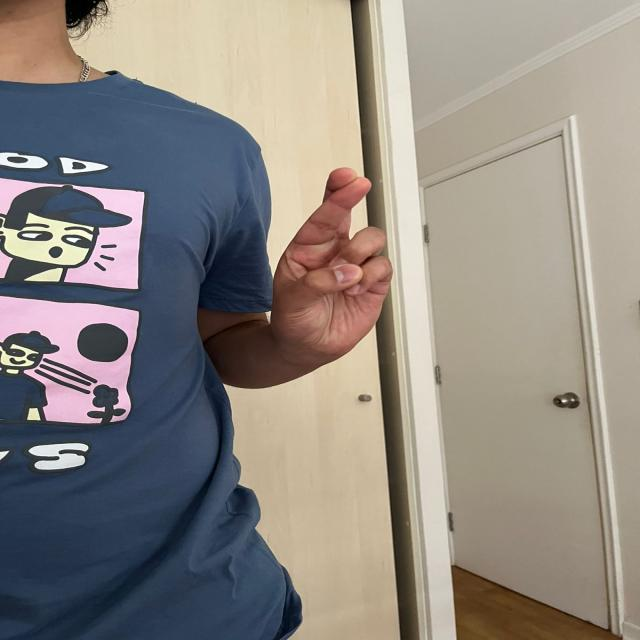R: (271, 163, 396, 358)
